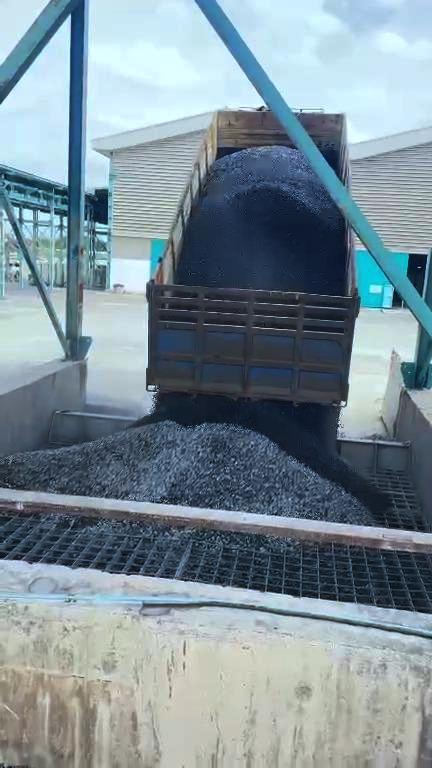gravel: (0, 395, 386, 524), (176, 146, 343, 294), (200, 531, 251, 547)
